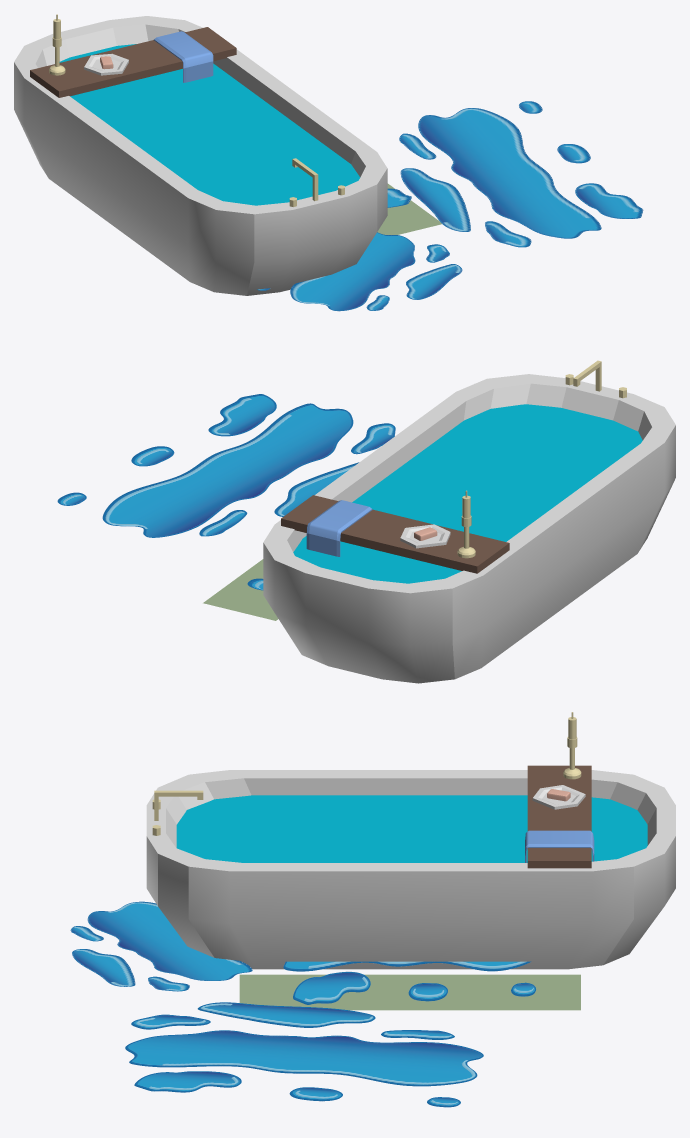
The model's file is geo_bathFull_01.fbx.
The picture shows the model from 3 angles, top to bottom: view 1: azimuth 30°, elevation 25°; view 2: azimuth 150°, elevation 25°; view 3: azimuth 270°, elevation 25°; orthographic projection. The views are drawn at different scales.
Parts seen in each view (by area): view 1: geo_bathtub_01, pPlane1, geo_WaterMess_03, geo_WaterMess_02, geo_bathtubWood_01, geo_bathTowel_01, geo_FloorMat_01, geo_soapDish_01, geo_candlebath_01; view 2: geo_bathtub_01, pPlane1, geo_WaterMess_03, geo_bathtubWood_01, geo_bathTowel_01, geo_FloorMat_01, geo_soapDish_01, geo_candlebath_01; view 3: geo_bathtub_01, pPlane1, geo_WaterMess_03, geo_FloorMat_01, geo_WaterMess_02, geo_bathtubWood_01, geo_WaterMess_01, geo_bathTowel_01, geo_soapDish_01, geo_candlebath_01.
Boxes of the visible parts, <box> form: geo_bathtub_01: <box>14,16,387,295</box>; pPlane1: <box>59,44,360,205</box>; geo_WaterMess_03: <box>399,101,643,247</box>; geo_WaterMess_02: <box>257,232,462,311</box>; geo_bathtubWood_01: <box>30,27,236,97</box>; geo_bathTowel_01: <box>154,31,213,82</box>; geo_FloorMat_01: <box>377,183,441,234</box>; geo_soapDish_01: <box>84,53,128,75</box>; geo_candlebath_01: <box>49,14,65,75</box>; geo_bathtub_01: <box>263,374,675,683</box>; pPlane1: <box>293,404,642,583</box>; geo_WaterMess_03: <box>57,394,395,537</box>; geo_bathtubWood_01: <box>281,495,509,573</box>; geo_bathTowel_01: <box>306,500,372,556</box>; geo_FloorMat_01: <box>203,559,278,620</box>; geo_soapDish_01: <box>400,524,450,548</box>; geo_candlebath_01: <box>457,490,475,558</box>; geo_bathtub_01: <box>146,770,675,969</box>; pPlane1: <box>176,795,647,862</box>; geo_WaterMess_03: <box>125,1002,483,1107</box>; geo_FloorMat_01: <box>239,974,580,1010</box>; geo_WaterMess_02: <box>70,901,252,991</box>; geo_bathtubWood_01: <box>527,765,591,868</box>; geo_WaterMess_01: <box>283,961,536,1004</box>; geo_bathTowel_01: <box>525,830,594,862</box>; geo_soapDish_01: <box>532,785,585,809</box>; geo_candlebath_01: <box>563,712,581,779</box>.
Bounding box in the file's own units: 161 × 50.4 × 172.
Materials: 8 (1 with a texture image).
